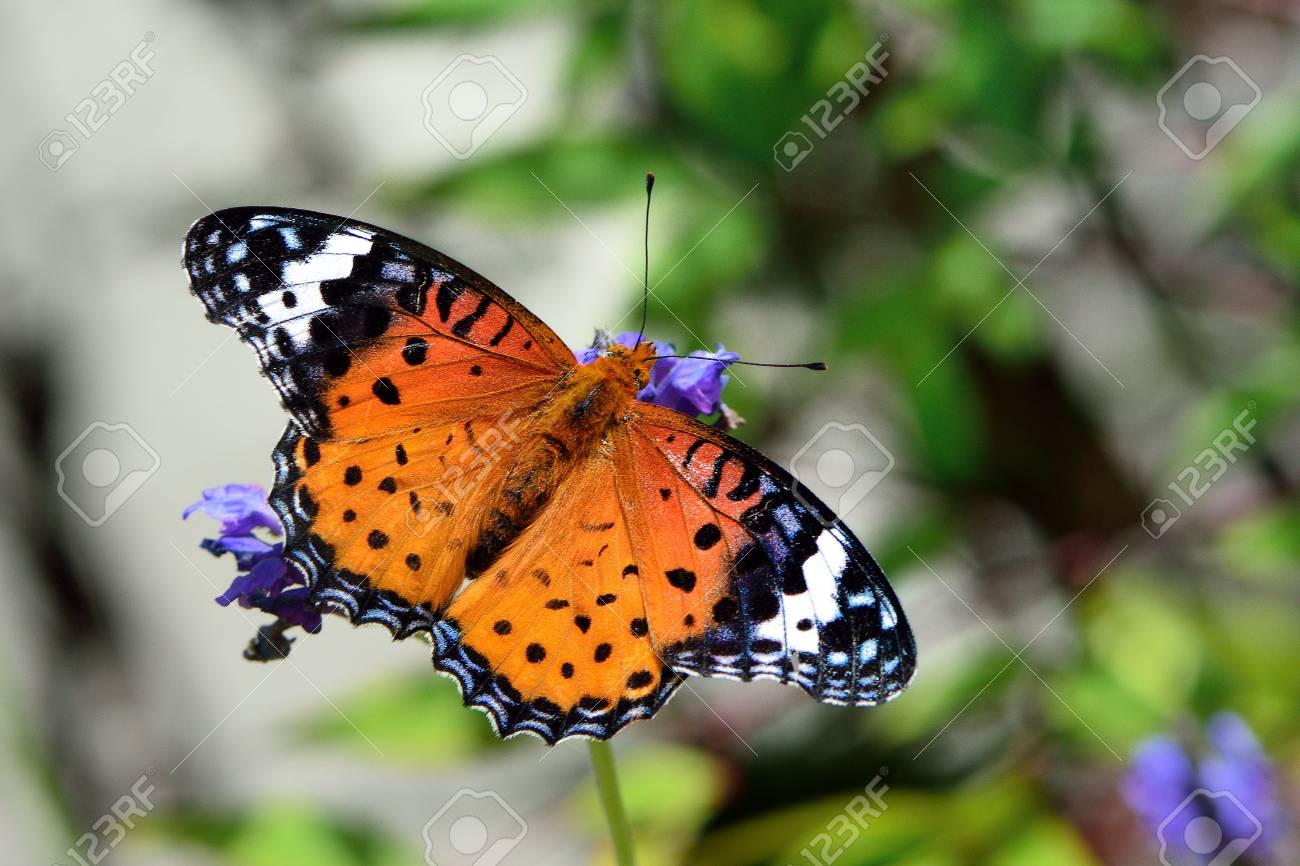Argyreus hyperbius: (170, 152, 933, 745)
butterfly: (172, 154, 935, 747)
